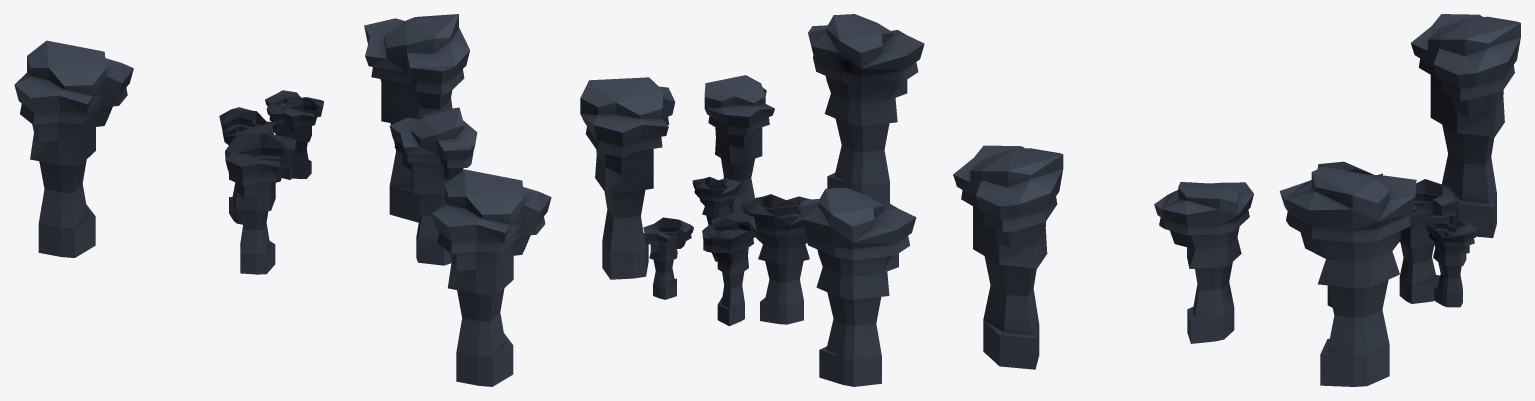
The model's file is Stone_02.FBX.
3 views of the same model, side by side, from view 1: azimuth 30°, elevation 25°; view 2: azimuth 150°, elevation 25°; view 3: azimuth 270°, elevation 25° (orthographic). The views are drawn at different scales.
Visible parts, largest first — view 1: Stone_02; view 2: Stone_02; view 3: Stone_02.
Part boxes in pixels (<box>): Stone_02: <box>14,14,551,386</box>; Stone_02: <box>580,14,924,386</box>; Stone_02: <box>953,14,1520,386</box>.
Size of the model in its own units: 37.09 by 19.54 by 43.93.
